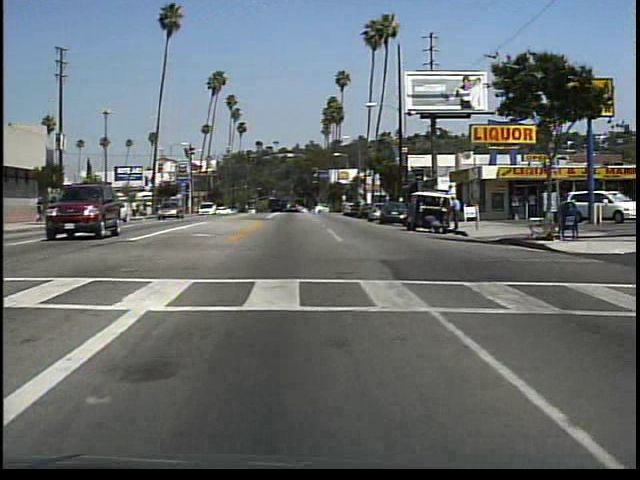person: (449, 192, 468, 235), (506, 189, 523, 222), (425, 215, 444, 236), (36, 194, 48, 225), (528, 189, 539, 219)
